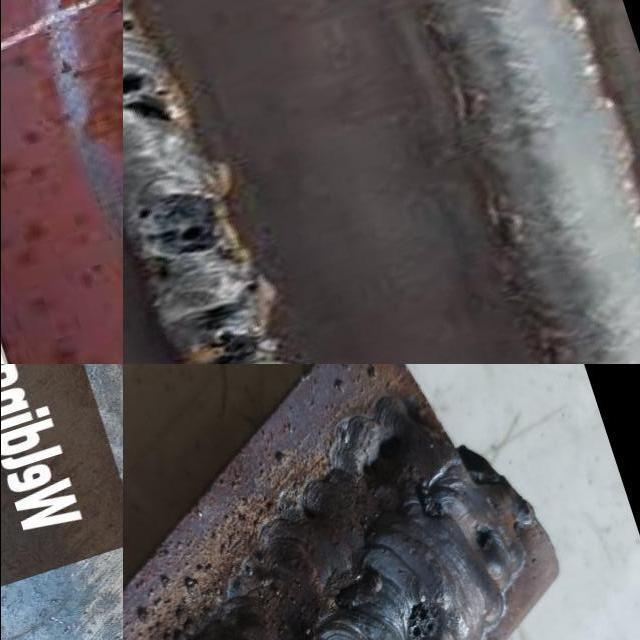defect: (136, 191, 220, 264), (184, 298, 263, 364), (122, 67, 188, 132), (410, 473, 447, 522), (405, 596, 443, 640), (470, 518, 495, 552), (122, 12, 141, 40)
